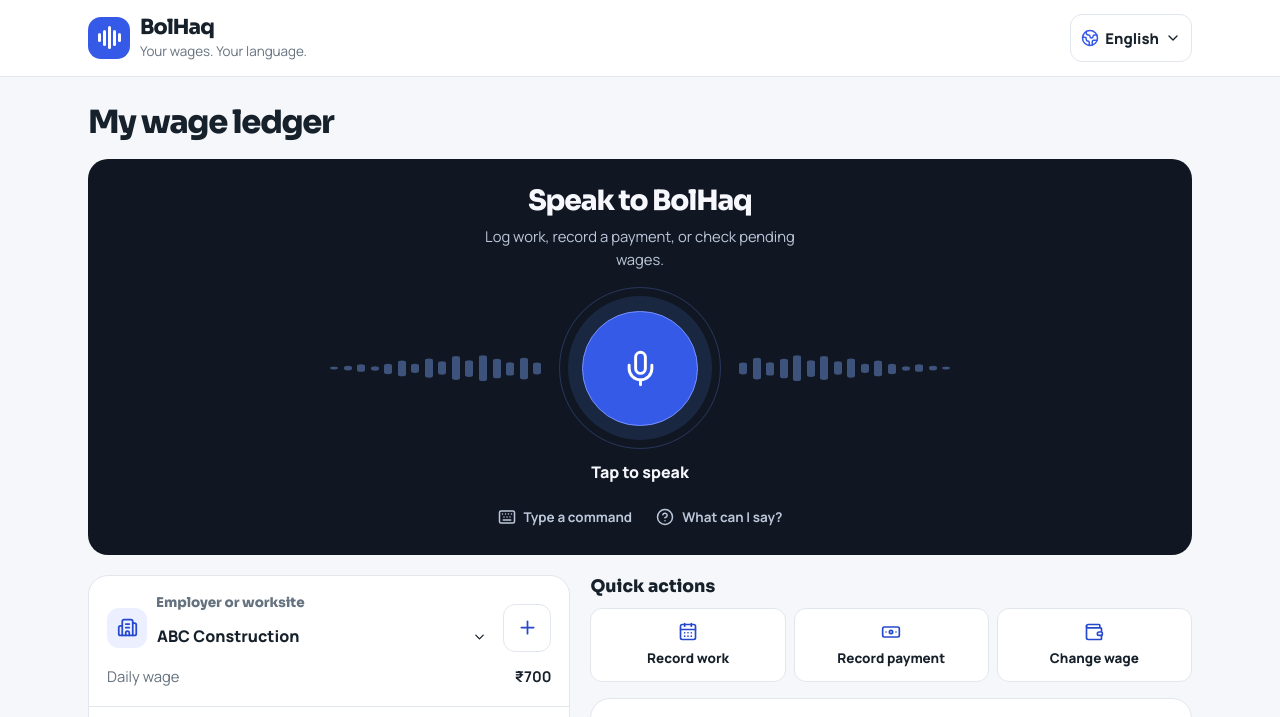
Scenario: prefills the editable input through the en-IN browser recognition adapter for I received Rs 300
Click the button named "Tap to speak": [640, 368] box 582,311 -> 698,426
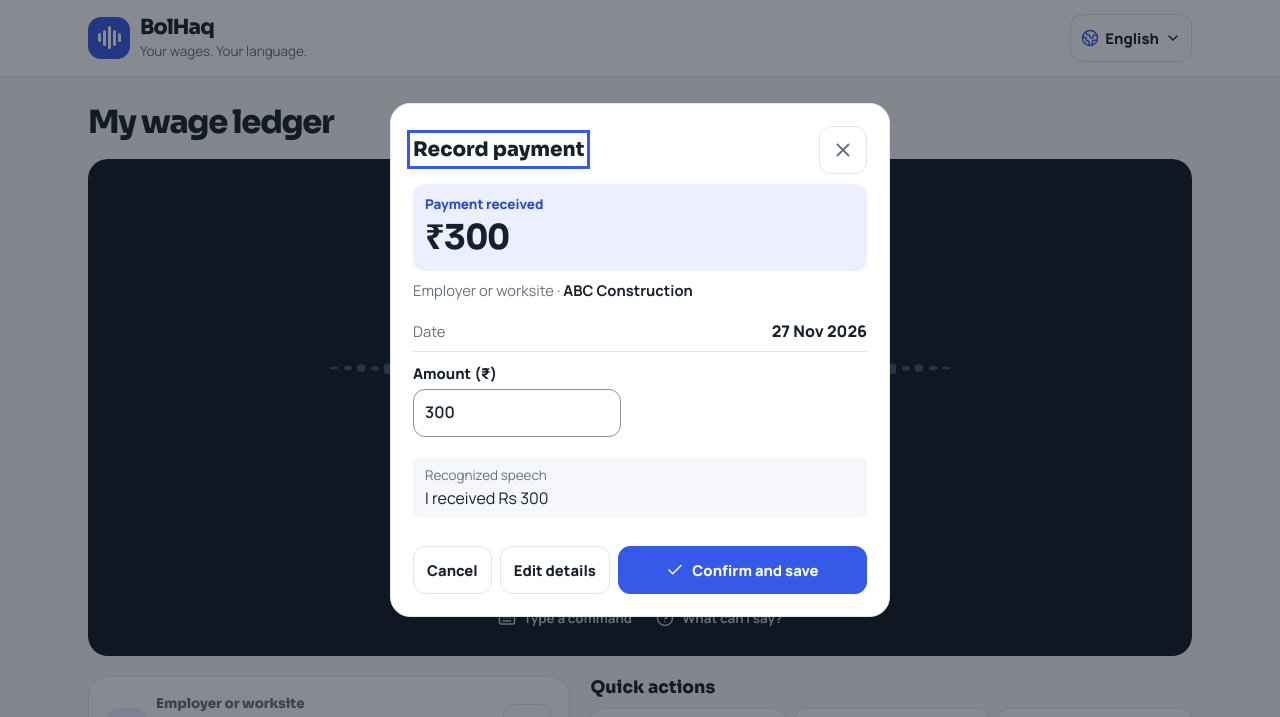
Now the field labelled "Amount (₹)" holds "300", box 413,389 -> 621,437
Now the text "I received Rs 300" is shown, box 425,487 -> 548,509
Now the text "ABC Construction" is shown, box 563,280 -> 693,300
Click the button "Cancel": [452, 570] box 413,546 -> 492,594
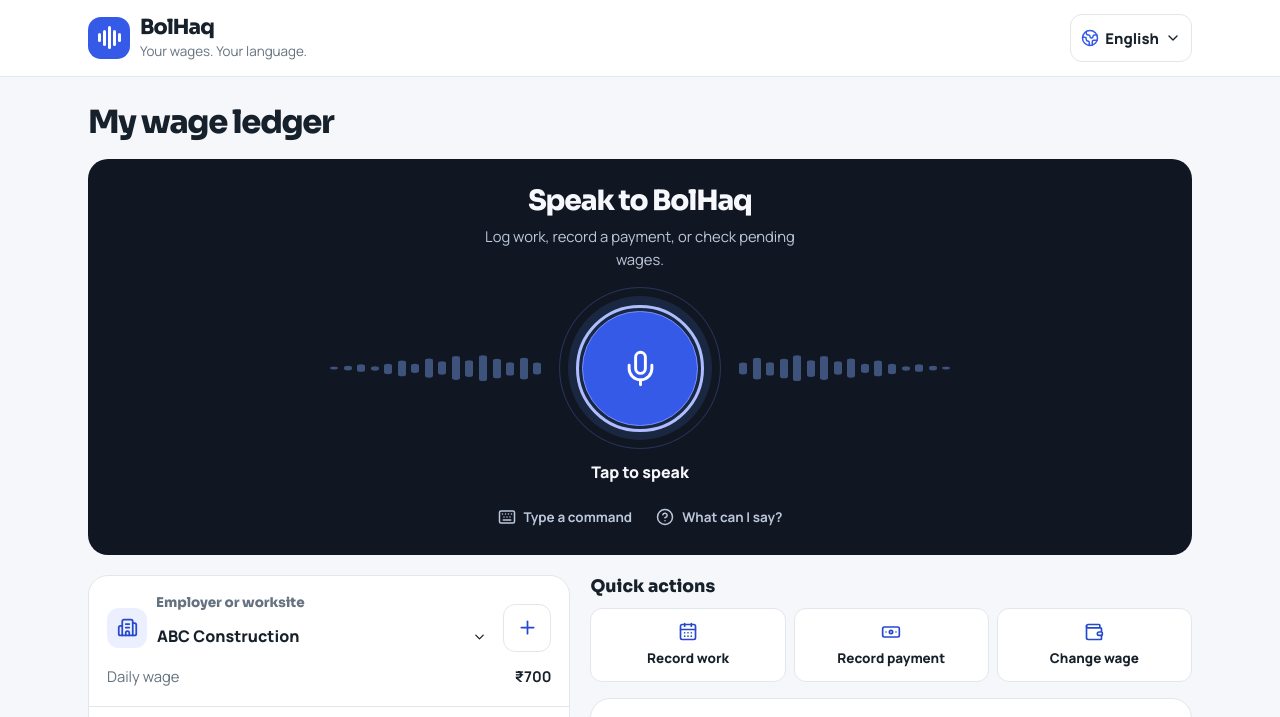
Now the dialog is gone
